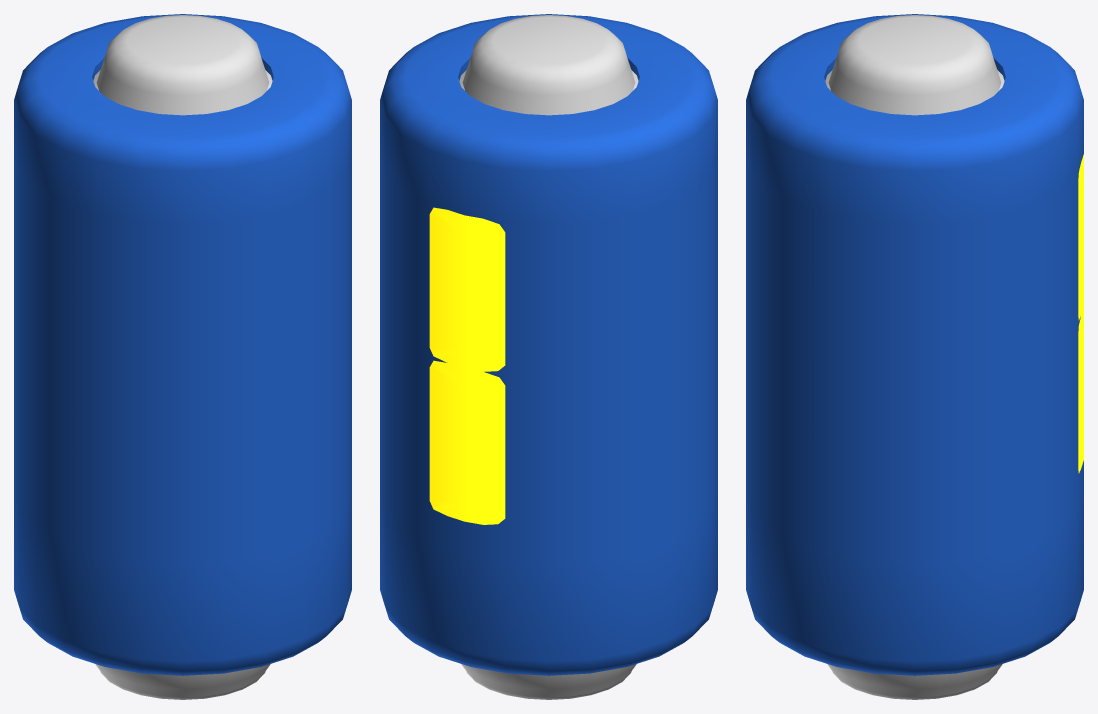
The model's file is Battery_v2.fbx.
3 views of the same model, side by side, from view 1: azimuth 30°, elevation 25°; view 2: azimuth 150°, elevation 25°; view 3: azimuth 270°, elevation 25° (orthographic).
Visible parts, largest first — view 1: Batery_End.001, Buttery_Body_v2.001, Buttery_Body_v2, Battery_Bottom_v1.001; view 2: Batery_End.001, Buttery_Body_v2.001, Buttery_Body_v2, Battery_Bottom_v1.001; view 3: Batery_End.001, Buttery_Body_v2.001, Buttery_Body_v2, Battery_Bottom_v1.001.
Boxes of the visible parts, x1,y1,x2,y2 form: Batery_End.001: (14, 14, 351, 224); Buttery_Body_v2.001: (14, 307, 351, 531); Buttery_Body_v2: (14, 154, 351, 377); Battery_Bottom_v1.001: (14, 460, 351, 699); Batery_End.001: (380, 14, 717, 224); Buttery_Body_v2.001: (380, 307, 717, 531); Buttery_Body_v2: (380, 154, 717, 377); Battery_Bottom_v1.001: (380, 460, 717, 699); Batery_End.001: (746, 14, 1083, 224); Buttery_Body_v2.001: (746, 307, 1083, 531); Buttery_Body_v2: (746, 154, 1083, 377); Battery_Bottom_v1.001: (746, 460, 1083, 699).
Size of the model in its own units: 200 by 408 by 200.
